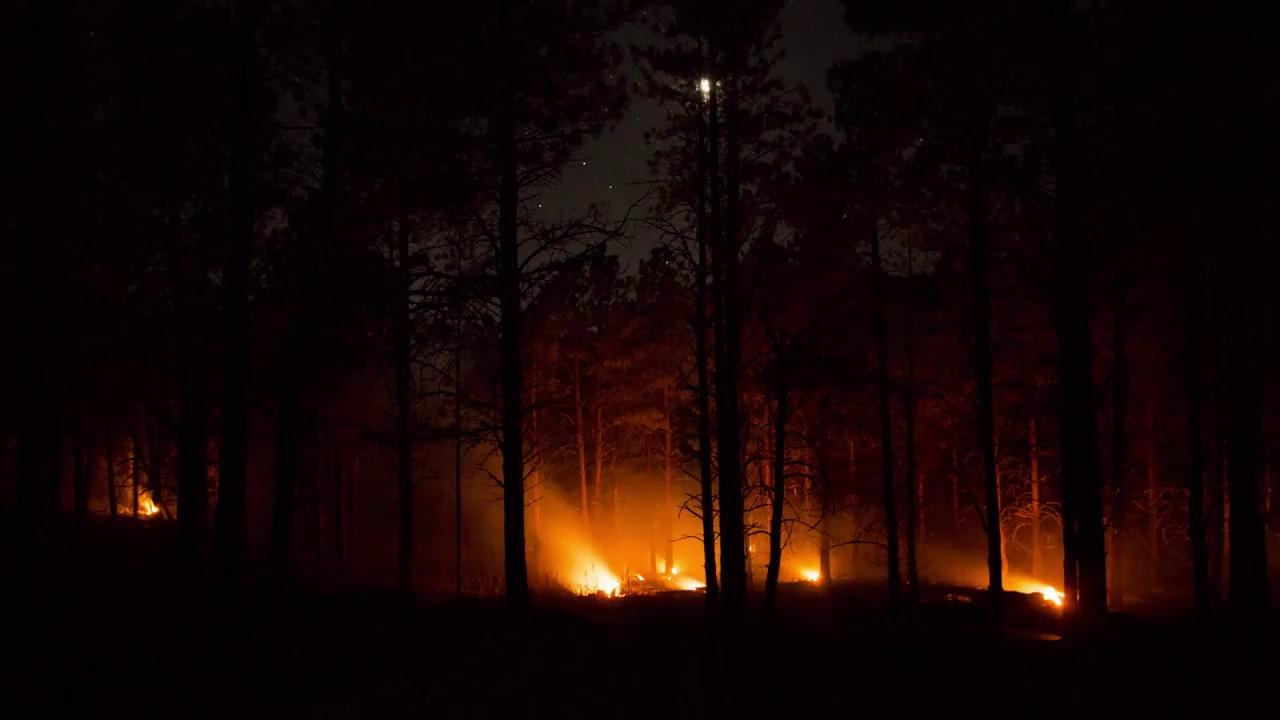fire: (574, 564, 622, 596)
